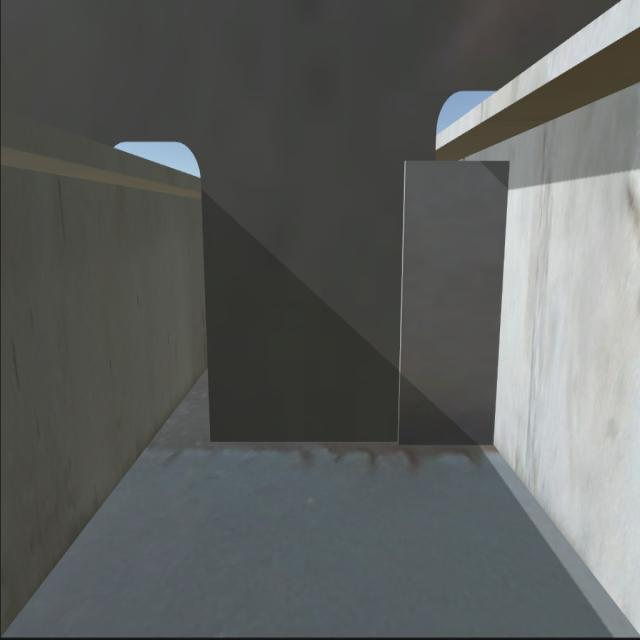fillet_yong_jeop_jang: (211, 442, 494, 451)
longi_yong_jeop_jang: (491, 160, 502, 444)
plate_CP01: (403, 156, 500, 442)
